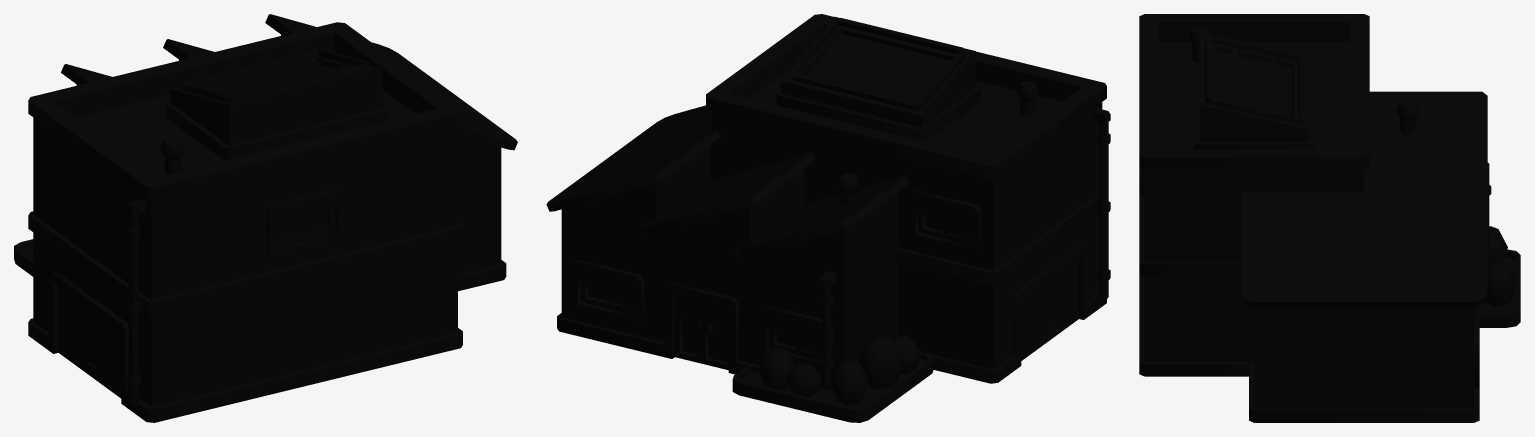
File: building-t.glb
3 renders of one model, left to right at view 1: azimuth 30°, elevation 25°; view 2: azimuth 150°, elevation 25°; view 3: azimuth 270°, elevation 25°, orthographic. The views are drawn at different scales.
Parts seen in each view (by area): view 1: building-t; view 2: building-t; view 3: building-t.
Boxes of the visible parts, left/top/right/bottom form: building-t: left=14, top=14, right=517, bottom=422; building-t: left=546, top=14, right=1110, bottom=422; building-t: left=1139, top=14, right=1520, bottom=422.
Bounding box in the file's own units: 1.72 × 1.01 × 1.39.
Materials: 1 (1 with a texture image).
